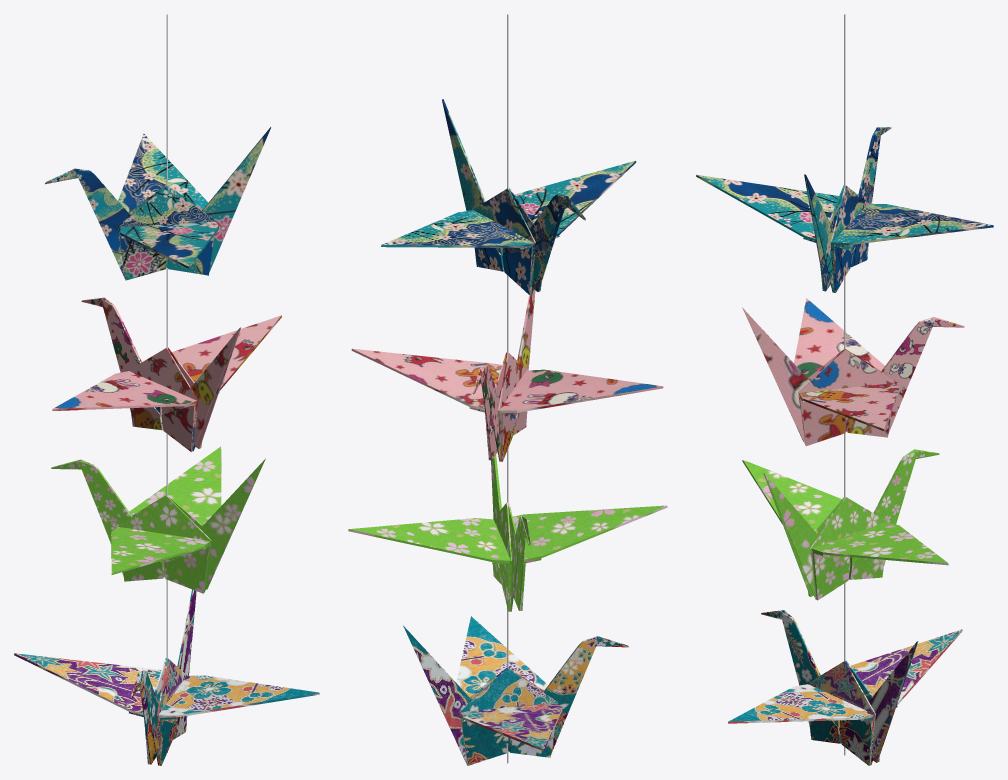
The model's file is origami_paper_crane_on_string.glb.
3 renders of one model, left to right at view 1: azimuth 30°, elevation 25°; view 2: azimuth 150°, elevation 25°; view 3: azimuth 270°, elevation 25°, orthographic.
Parts seen in each view (by area): view 1: polySurface2, polySurface6, polySurface35, polySurface15, polySurface39, polySurface47, polySurface23, polySurface27, polySurface16, polySurface19, polySurface24, polySurface40 (+17 smaller); view 2: polySurface39, polySurface47, polySurface35, polySurface27, polySurface15, polySurface2, polySurface23, polySurface6, polySurface11, polySurface5, polySurface10, polySurface22 (+13 smaller); view 3: polySurface15, polySurface23, polySurface2, polySurface39, polySurface35, polySurface27, polySurface6, polySurface47, polySurface29, polySurface34, polySurface30, polySurface41 (+16 smaller).
Part boxes in pixels (x1,y1,x2,y2): polySurface2: [158, 675, 319, 762]; polySurface6: [14, 653, 161, 762]; polySurface35: [52, 371, 196, 451]; polySurface15: [118, 133, 208, 212]; polySurface39: [129, 446, 221, 525]; polySurface47: [111, 527, 210, 590]; polySurface23: [118, 221, 218, 268]; polySurface27: [172, 315, 281, 446]; polySurface16: [202, 127, 270, 271]; polySurface19: [45, 170, 130, 279]; polySurface24: [117, 185, 216, 278]; polySurface40: [200, 459, 265, 592]; polySurface39: [348, 518, 510, 611]; polySurface47: [512, 505, 667, 608]; polySurface35: [499, 369, 663, 461]; polySurface27: [351, 348, 501, 458]; polySurface15: [381, 210, 534, 292]; polySurface2: [456, 616, 547, 696]; polySurface23: [514, 160, 636, 290]; polySurface6: [460, 702, 562, 763]; polySurface11: [403, 625, 471, 764]; polySurface5: [459, 668, 557, 764]; polySurface10: [544, 638, 628, 753]; polySurface22: [473, 188, 535, 294]; polySurface15: [832, 203, 993, 292]; polySurface23: [696, 174, 838, 288]; polySurface2: [728, 684, 874, 765]; polySurface39: [811, 522, 948, 598]; polySurface35: [794, 298, 884, 377]; polySurface27: [799, 383, 899, 443]; polySurface6: [850, 629, 962, 761]; polySurface47: [742, 460, 869, 594]; polySurface29: [742, 308, 809, 444]; polySurface34: [798, 349, 894, 444]; polySurface30: [881, 319, 964, 433]; polySurface41: [764, 473, 818, 599].
Size of the model in its own units: 18 by 47.24 by 17.21.
9 materials, 8 textured.
